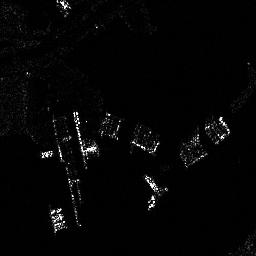ship: (145, 173, 162, 195)
